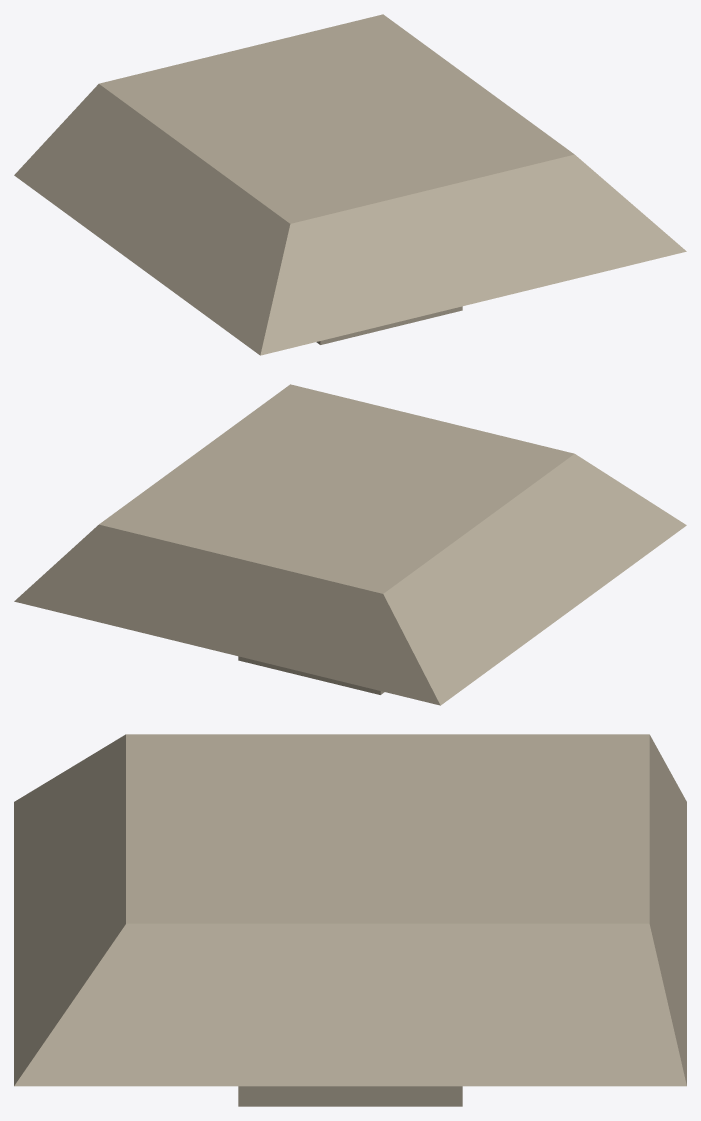
File: original-33.obj
3 views of the same model, one above another, from view 1: azimuth 30°, elevation 25°; view 2: azimuth 150°, elevation 25°; view 3: azimuth 270°, elevation 25° (orthographic). The views are drawn at different scales.
Visible parts, largest first — view 1: KB_-_Key_1_14/KB_-_Key_1/mesh13/mesh13-geometry#mesh13-geometry; view 2: KB_-_Key_1_14/KB_-_Key_1/mesh13/mesh13-geometry#mesh13-geometry; view 3: KB_-_Key_1_14/KB_-_Key_1/mesh13/mesh13-geometry#mesh13-geometry.
Part boxes in pixels (<box>): KB_-_Key_1_14/KB_-_Key_1/mesh13/mesh13-geometry#mesh13-geometry: <box>14,14,686,355</box>; KB_-_Key_1_14/KB_-_Key_1/mesh13/mesh13-geometry#mesh13-geometry: <box>14,384,686,705</box>; KB_-_Key_1_14/KB_-_Key_1/mesh13/mesh13-geometry#mesh13-geometry: <box>14,734,686,1106</box>.
Bounding box in the file's own units: 0.0764 × 0.0289 × 0.0764.
